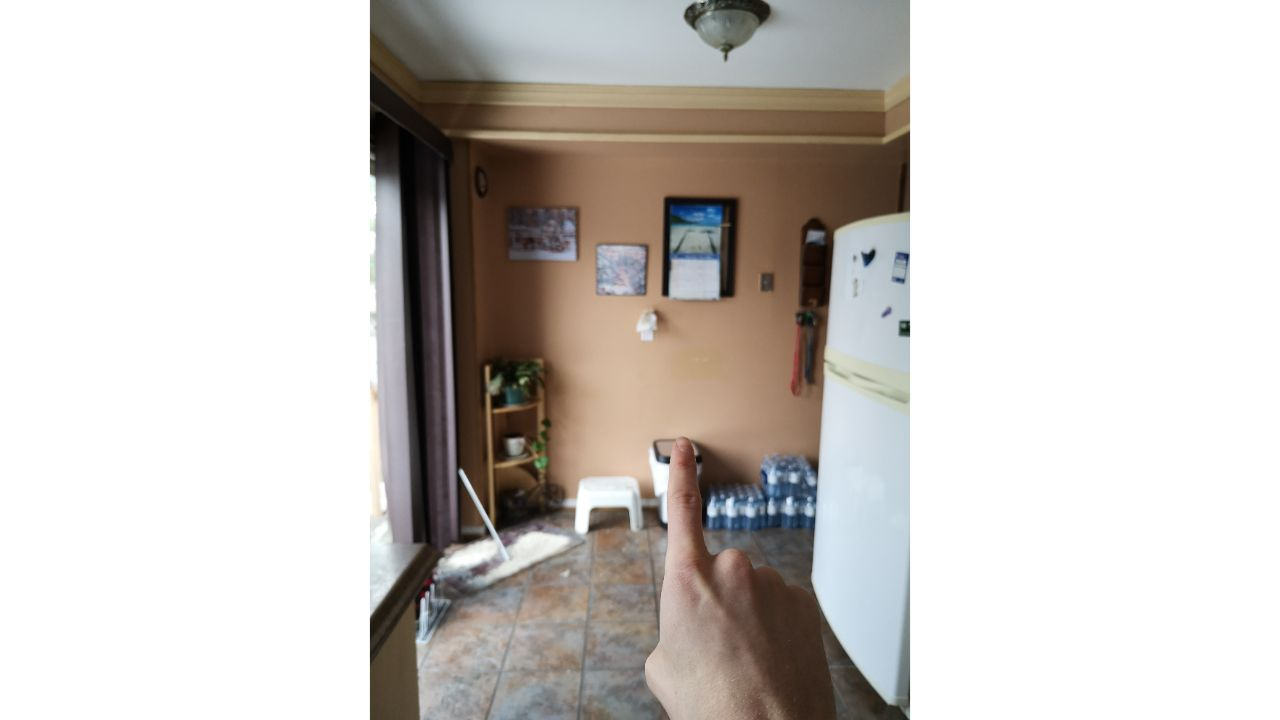finger: (637, 440, 853, 720)
